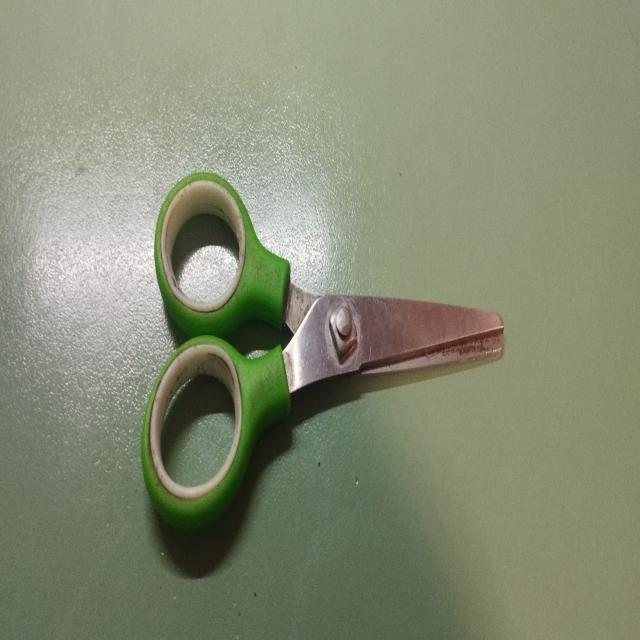tesoura: (135, 158, 509, 548)
